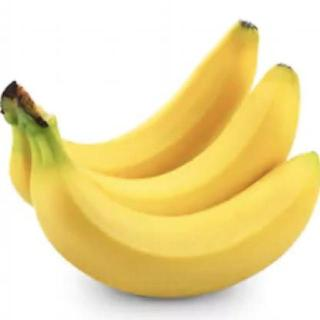banana: (8, 18, 261, 215), (30, 61, 302, 238), (29, 149, 319, 301)
